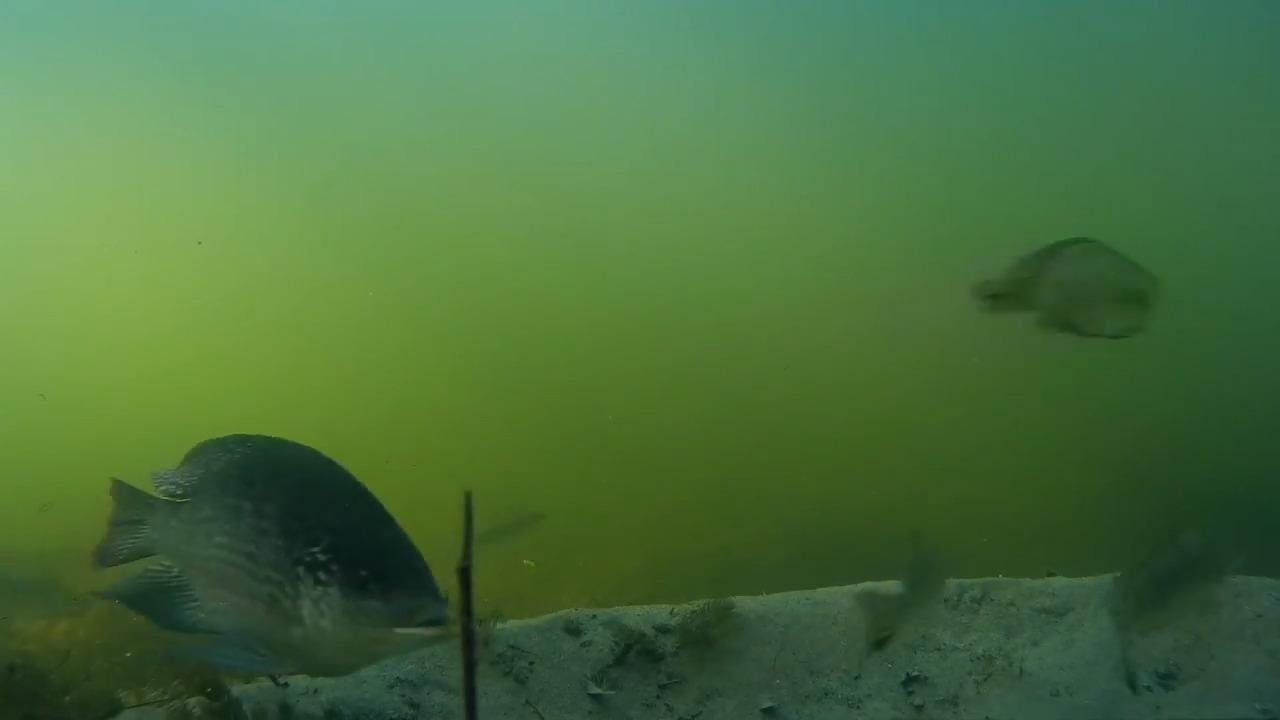Tilapia: (47, 426, 465, 690), (940, 216, 1169, 340), (1096, 500, 1247, 670), (832, 518, 985, 662)
